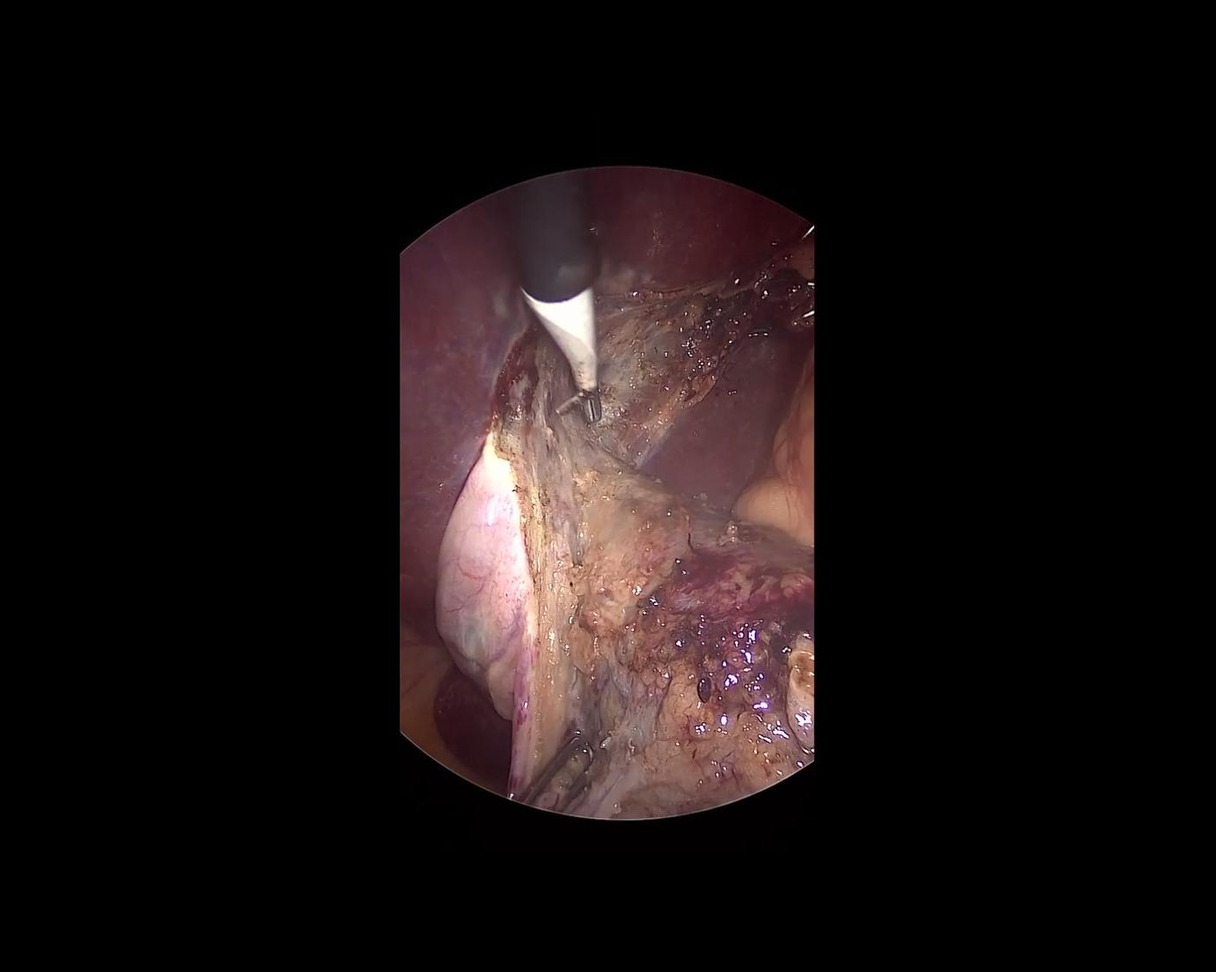Cautery: (501, 169, 602, 421)
Forceps: (512, 724, 612, 830)
Gallbladder: (437, 433, 814, 818)
Liver: (224, 35, 807, 640), (639, 311, 840, 526), (405, 660, 536, 793)
